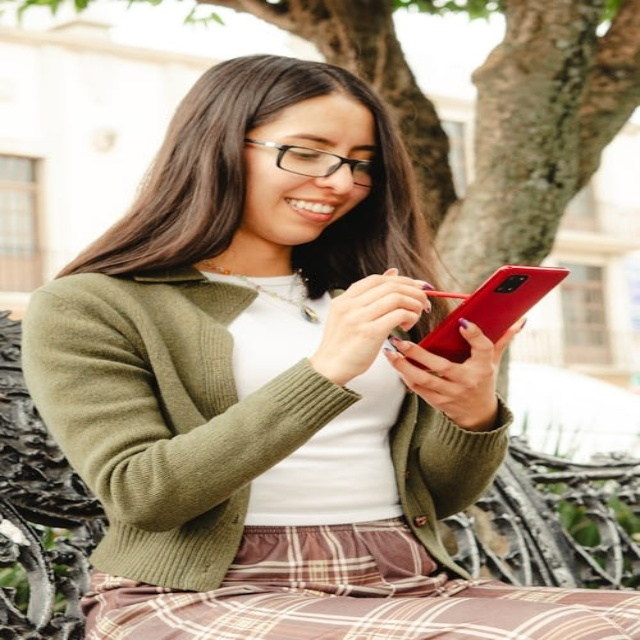Gafas: (246, 131, 378, 189)
Sin_guantes: (378, 309, 526, 427), (314, 266, 442, 364)
Sin_mascara: (271, 193, 339, 241)
